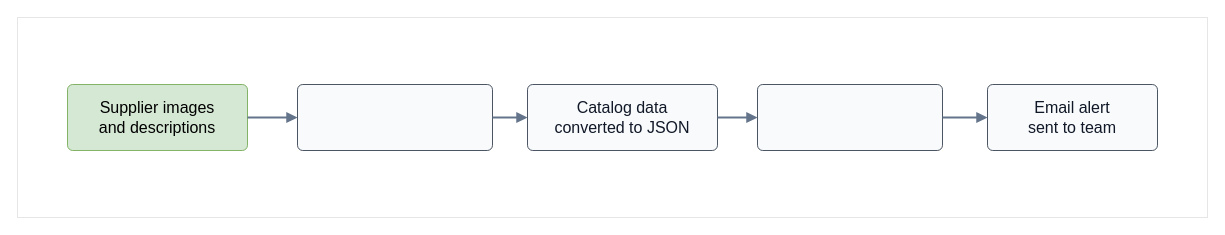
This 1225x235 diagram has some shape labels left out. Here are the shapes that lost their labels. From the top down, the centre of each, then its label:
the point at 394,117: Image upload and format cleanup
the point at 849,117: Reports generated as PDF
